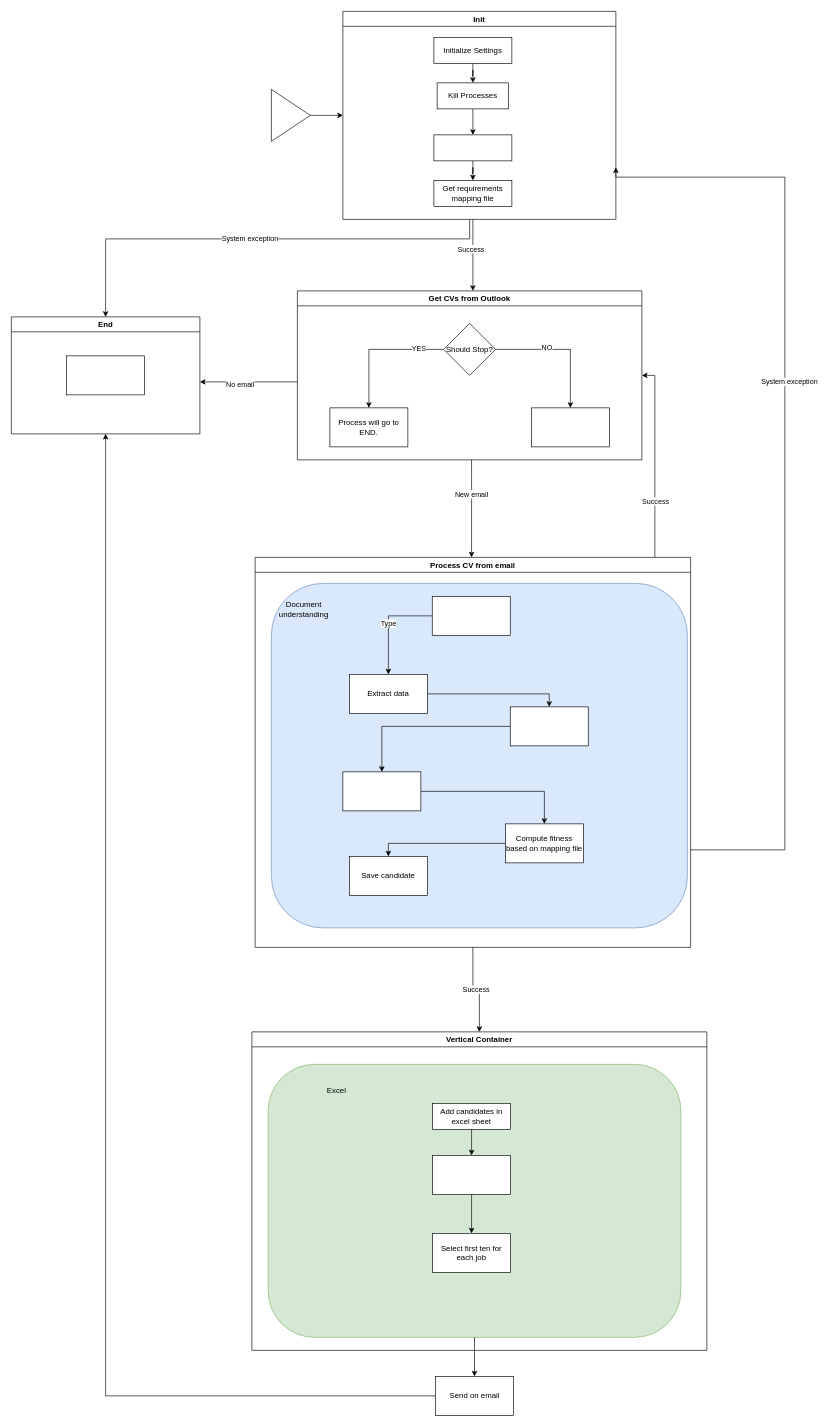
The diagram is 829 pixels wide and 1427 high, and some of its shapes have lost their labels. Each missing label, with the centre of its shape:
"Categorize CV" belongs at [471,615].
"Close All Applications" belongs at [105,375].
"Init applications" belongs at [472,147].
"Open email containing CV" belongs at [570,427].
"Save CV in job specific folder" belongs at [549,726].
"Save invoices" belongs at [381,791].
"Sort descending based on fitness" belongs at [471,1174].
"Start" belongs at [290,115].
